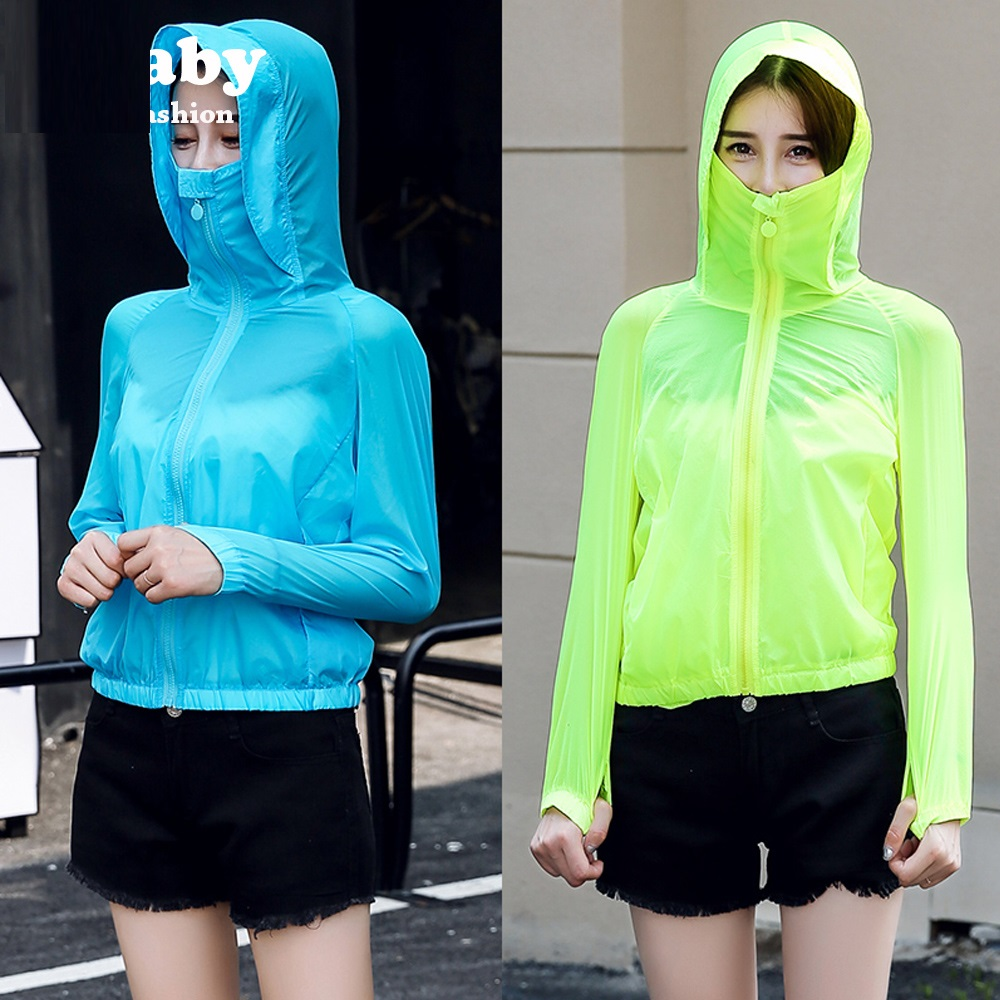face_mask: (164, 70, 285, 250), (716, 78, 835, 253)
